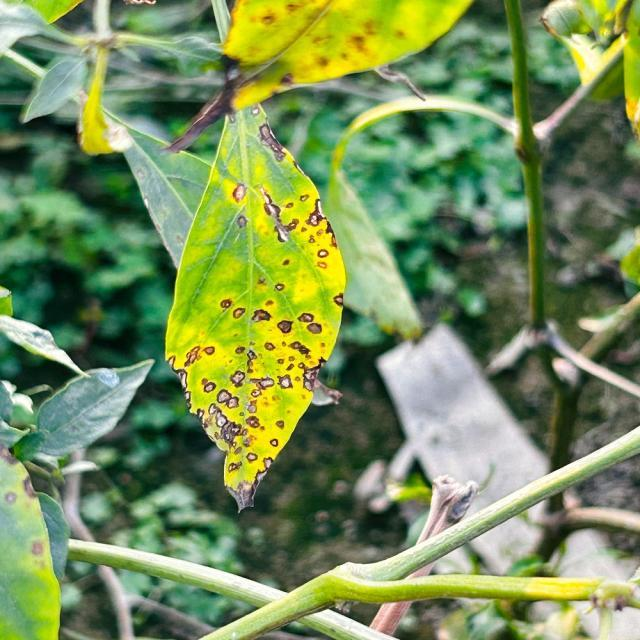Bercak Daun Serkospora: (163, 101, 347, 513)
